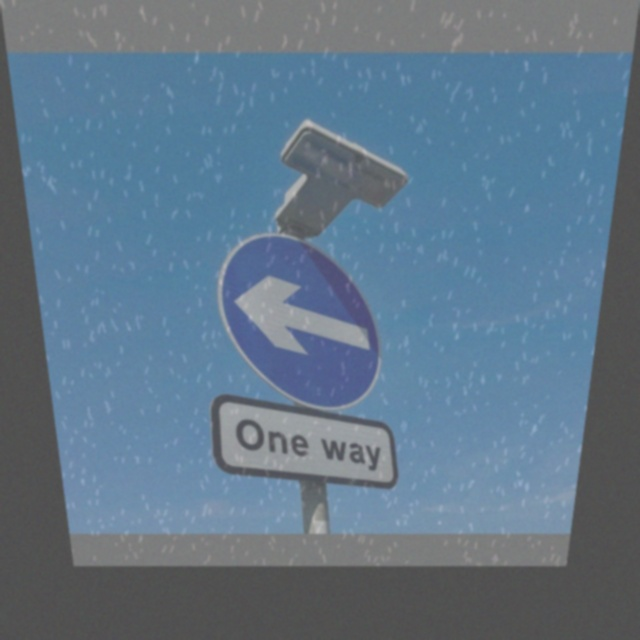Compulsory_Turn_Left: (217, 231, 391, 409)
